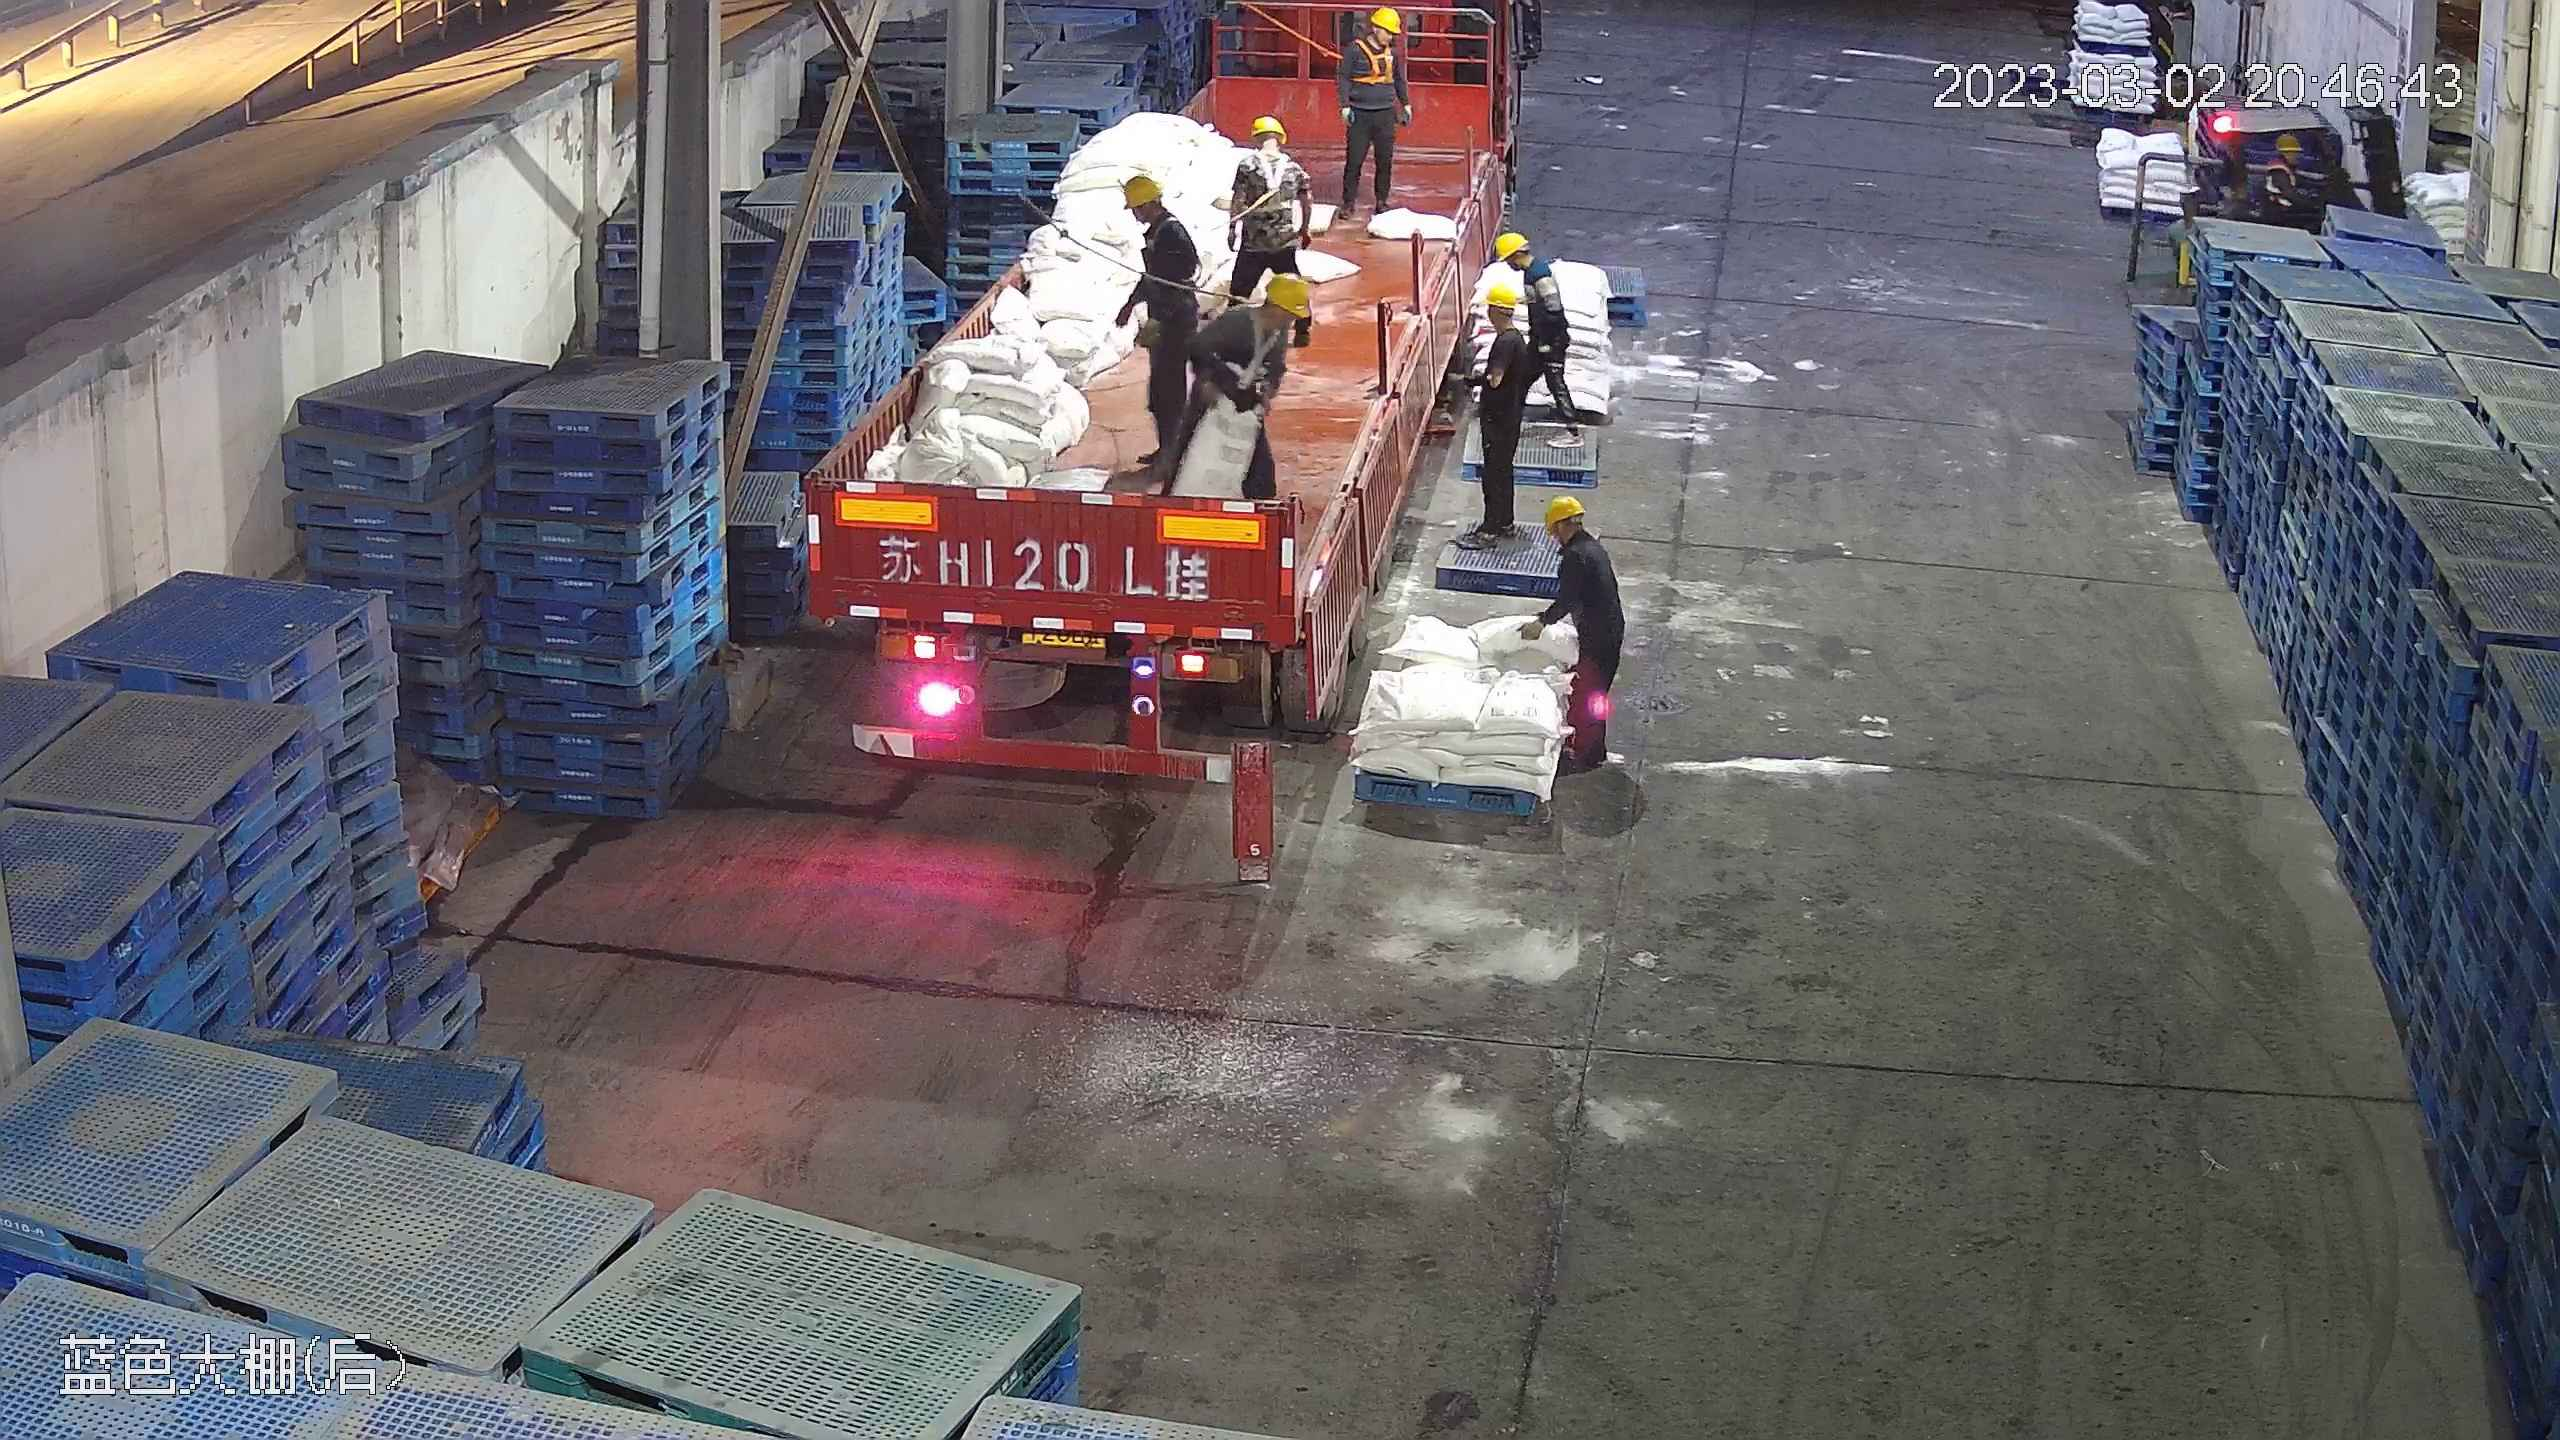belt: (1201, 304, 1288, 388), (1139, 212, 1202, 288), (1234, 144, 1298, 215), (1351, 33, 1398, 86)
head: (1212, 271, 1312, 359), (1537, 494, 1617, 582), (1122, 172, 1192, 252), (1469, 281, 1530, 360), (1228, 113, 1298, 179), (1492, 227, 1551, 298), (1343, 4, 1408, 63)
helmet: (1121, 169, 1195, 248), (1260, 271, 1312, 318), (1120, 170, 1165, 207), (1541, 494, 1585, 526), (1481, 282, 1522, 312), (1494, 229, 1532, 258), (1369, 4, 1403, 31), (1249, 111, 1283, 137), (2275, 130, 2302, 152)
people: (1163, 270, 1313, 484), (1117, 162, 1208, 468), (1531, 495, 1630, 752), (1456, 279, 1538, 544), (1333, 3, 1411, 220), (1219, 114, 1308, 305), (1516, 254, 1578, 425)
truck: (805, 29, 1476, 776)
